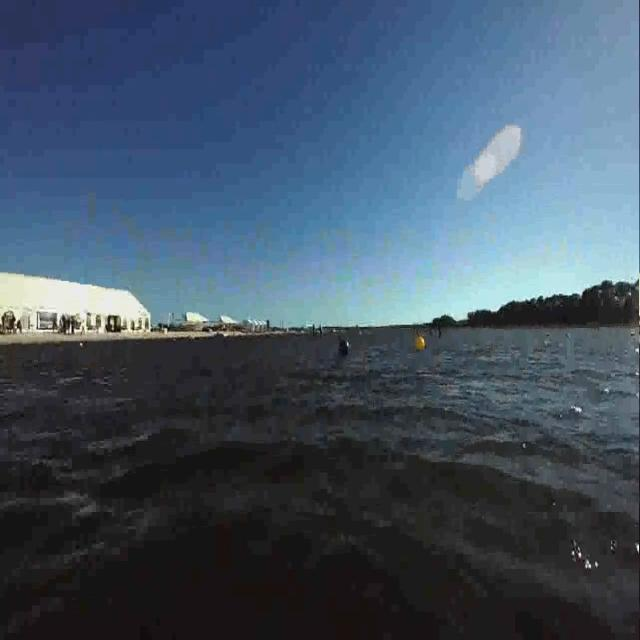black-buoy: (336, 337, 352, 361)
yellow-buoy: (415, 339, 426, 356)
